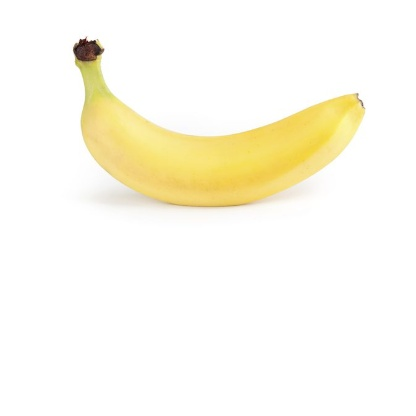chuoi: (65, 25, 379, 235)
